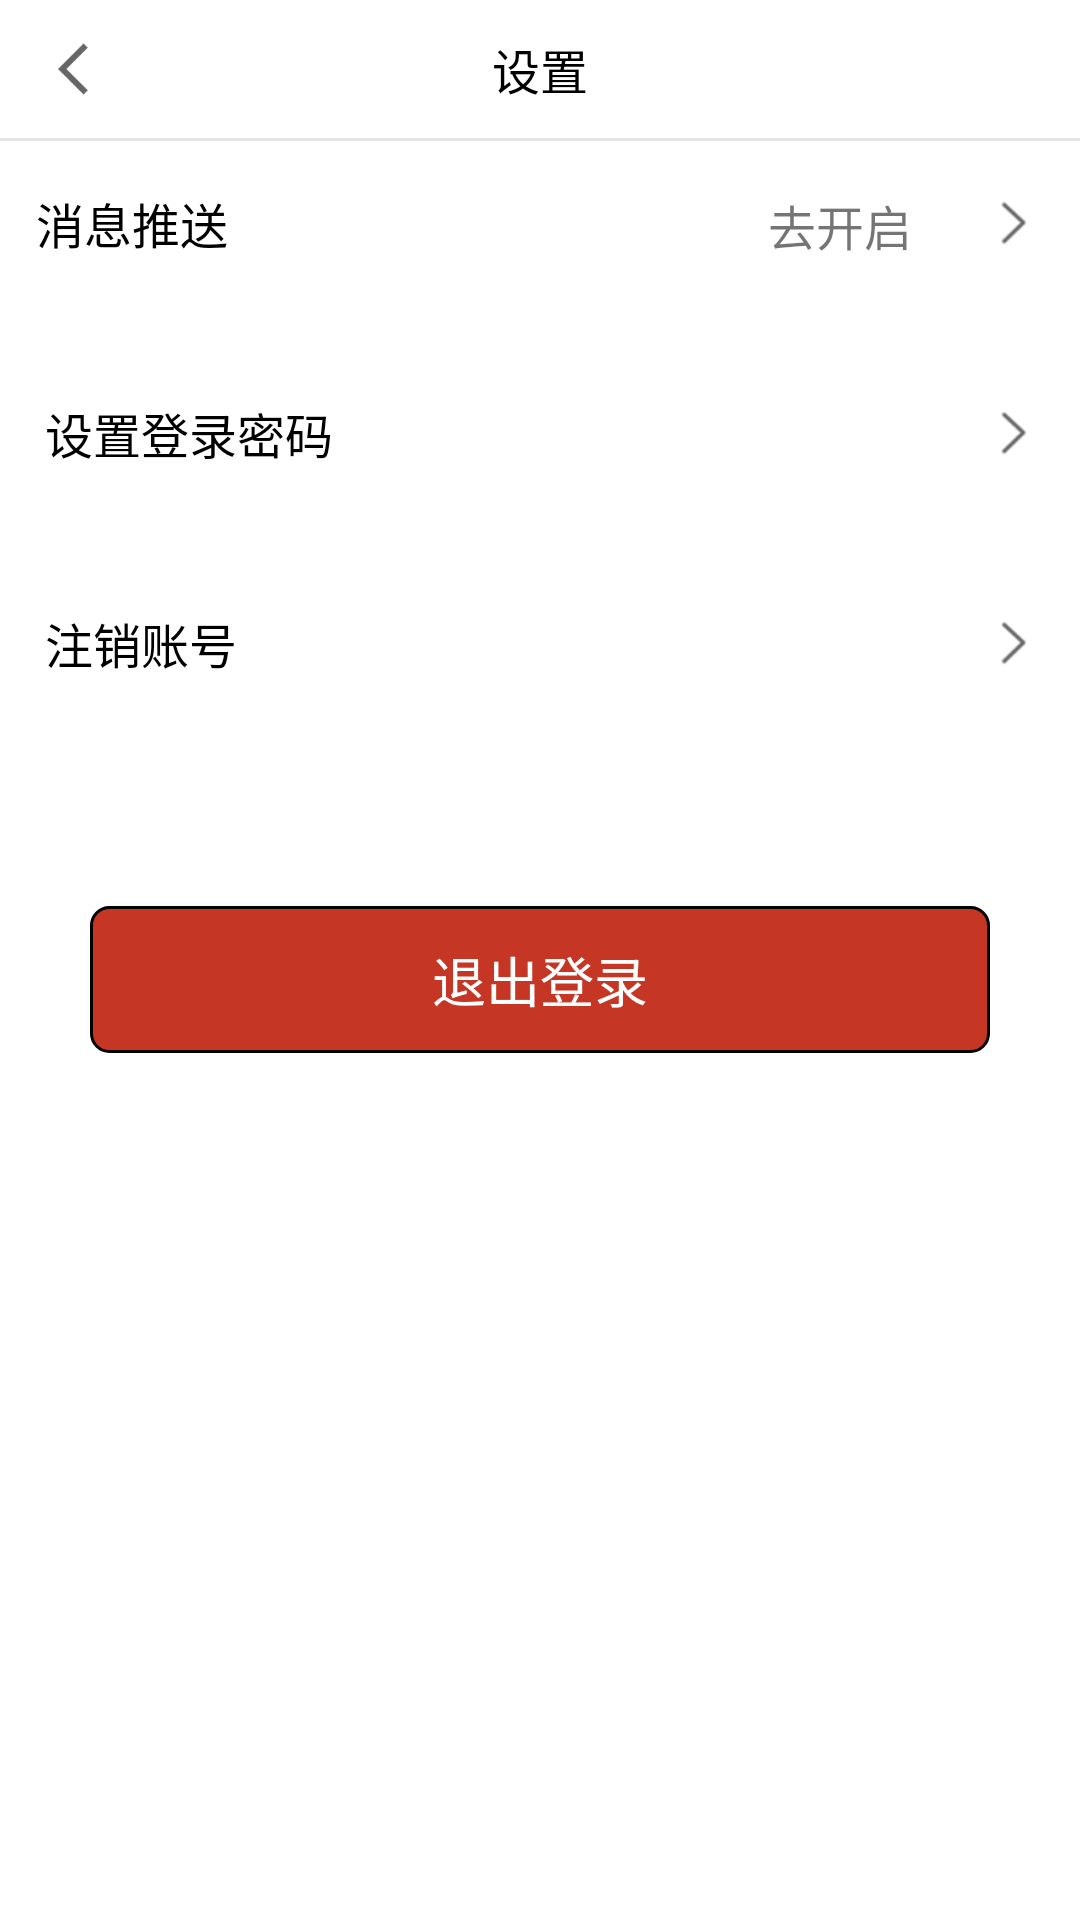

Icons on this 1080x1920 Android screen, each with the point to tap as (x,y):
mine right: (1014,223), (1014,433), (1014,643)
